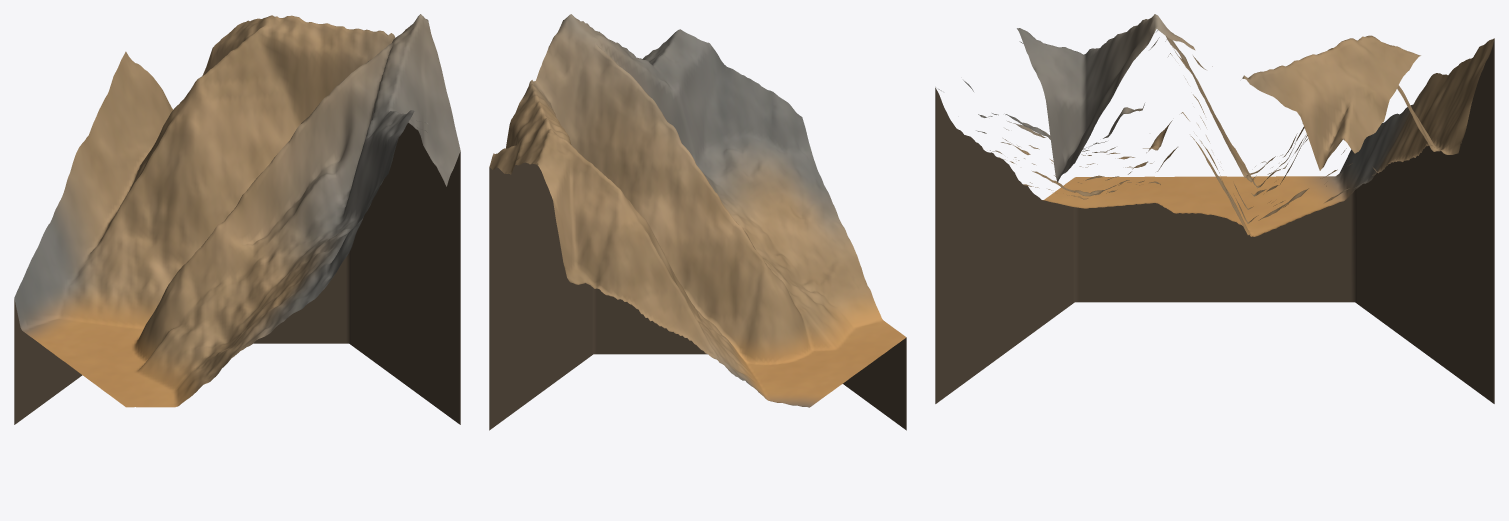
3 renders of one model, left to right at view 1: azimuth 30°, elevation 25°; view 2: azimuth 150°, elevation 25°; view 3: azimuth 270°, elevation 25°, orthographic. The views are drawn at different scales.
Visible parts, largest first — view 1: terrain, hex_side_cut; view 2: terrain, hex_side_cut; view 3: hex_side_cut, terrain.
Boxes of the visible parts, x1,y1,x2,y2 form: terrain: [14, 14, 460, 407]; hex_side_cut: [14, 122, 460, 424]; terrain: [489, 14, 906, 407]; hex_side_cut: [489, 162, 906, 430]; hex_side_cut: [935, 39, 1494, 403]; terrain: [938, 14, 1494, 236].
Bounding box in the file's own units: 4330 × 4811 × 5000.
